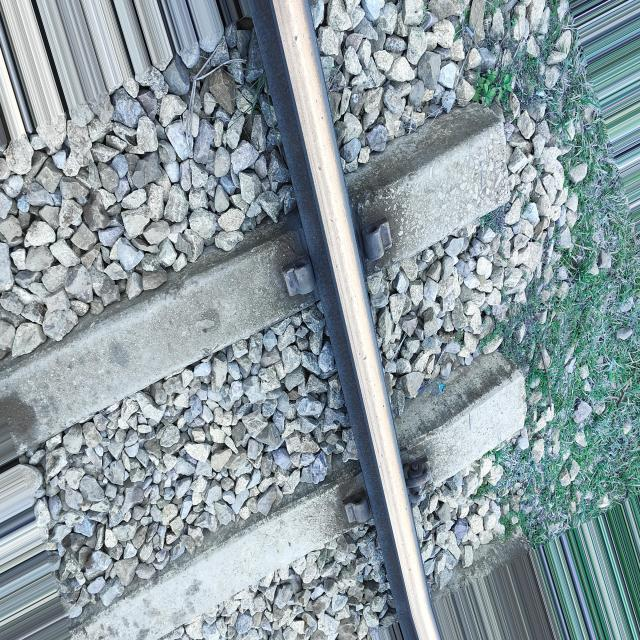Good Fasteners: (406, 456, 432, 492)
Missing Fastener: (349, 212, 411, 275), (270, 254, 317, 303), (342, 489, 376, 527)
